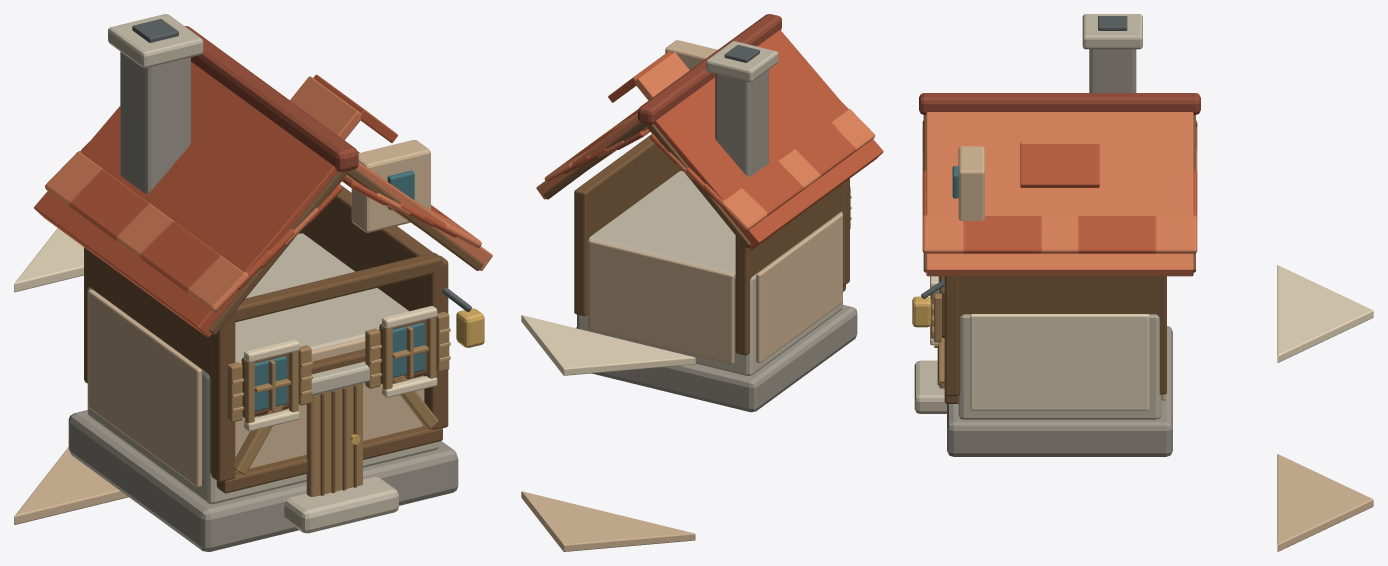
File: medieval_house.glb
The picture shows the model from 3 angles, left to right: view 1: azimuth 30°, elevation 25°; view 2: azimuth 150°, elevation 25°; view 3: azimuth 270°, elevation 25°; orthographic projection. The views are drawn at different scales.
Visible parts, largest first — view 1: MedievalHouse_Geometry; view 2: MedievalHouse_Geometry; view 3: MedievalHouse_Geometry.
Part boxes in pixels (x1,y1,x2,y2): MedievalHouse_Geometry: [14, 14, 492, 551]; MedievalHouse_Geometry: [521, 14, 883, 551]; MedievalHouse_Geometry: [912, 14, 1373, 551].
Size of the model in its own units: 1.89 by 3.43 by 3.14.
